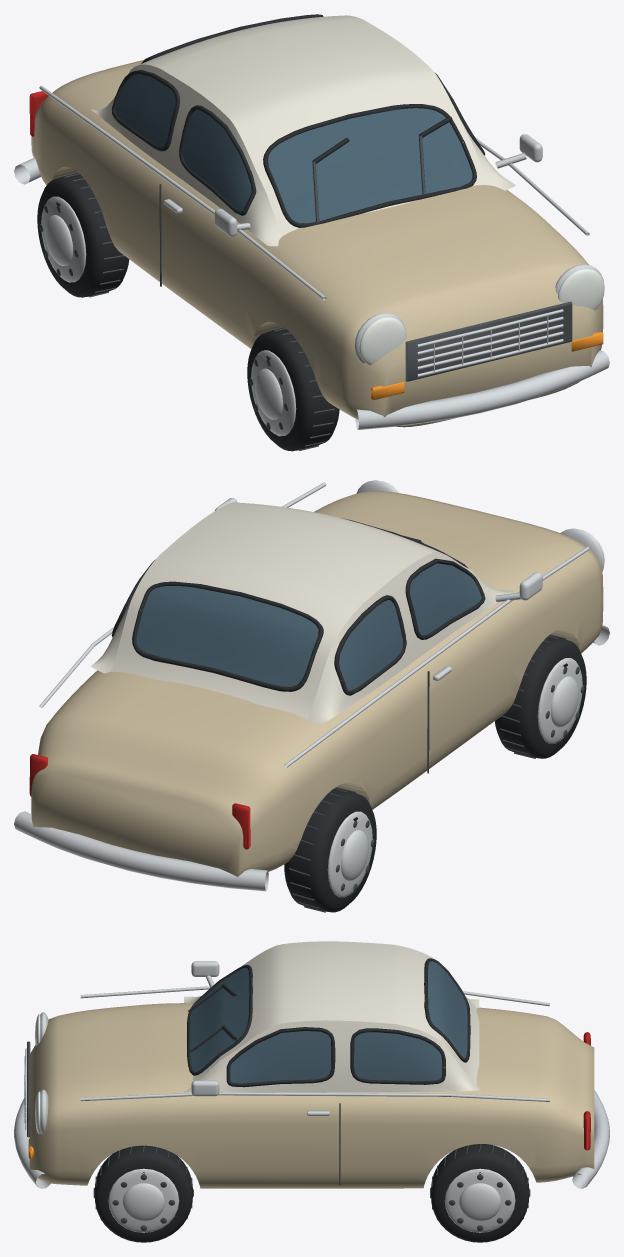
File: trabant.glb
3 renders of one model, top to bottom at view 1: azimuth 30°, elevation 25°; view 2: azimuth 150°, elevation 25°; view 3: azimuth 270°, elevation 25°, orthographic. The views are drawn at different scales.
Visible parts, largest first — view 1: trabant_mesh, trabant__Wheel_RL_mesh, trabant__Wheel_FL_mesh; view 2: trabant_mesh, trabant__Wheel_RL_mesh, trabant__Wheel_FL_mesh; view 3: trabant_mesh, trabant__Wheel_RR_mesh, trabant__Wheel_FR_mesh.
Part boxes in pixels (box(x1,y1,x2,y2)): trabant_mesh: box(14, 14, 609, 429); trabant__Wheel_RL_mesh: box(37, 172, 129, 297); trabant__Wheel_FL_mesh: box(247, 327, 339, 451); trabant_mesh: box(14, 480, 609, 891); trabant__Wheel_RL_mesh: box(284, 787, 376, 912); trabant__Wheel_FL_mesh: box(494, 634, 586, 758); trabant_mesh: box(14, 941, 609, 1188); trabant__Wheel_RR_mesh: box(430, 1144, 530, 1242); trabant__Wheel_FR_mesh: box(93, 1145, 193, 1242).
Bounding box in the file's own units: 1.77 × 1.46 × 3.63.
